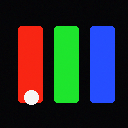2 circle: (24, 90, 38, 104)
